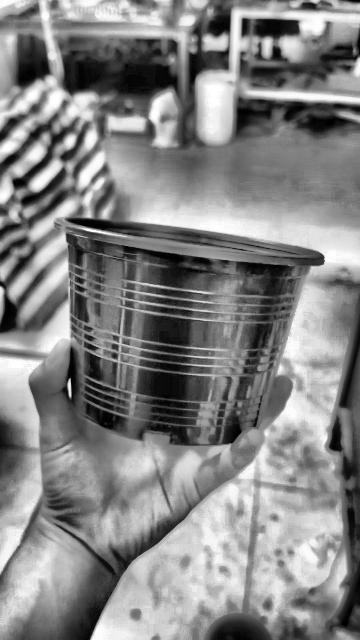pot: (54, 218, 323, 446)
